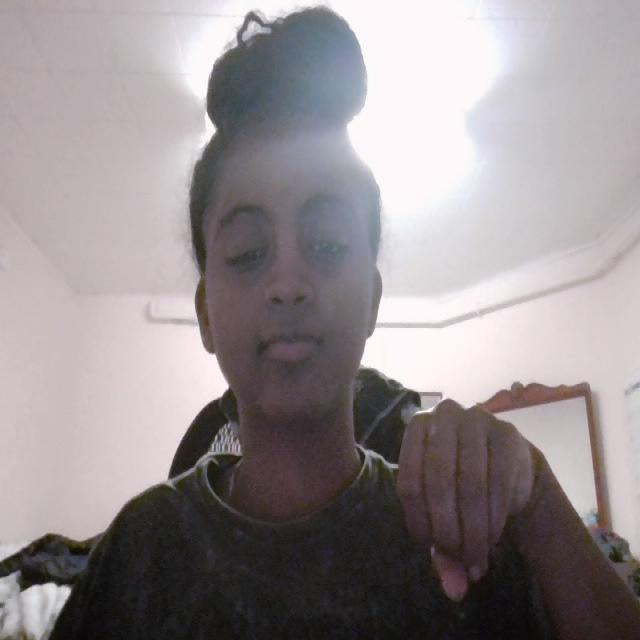Yes: (392, 372, 552, 614)
